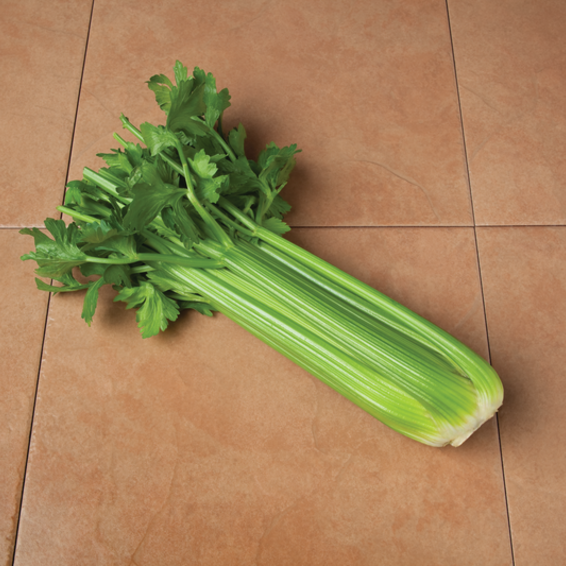Seledri: (83, 75, 531, 497)
